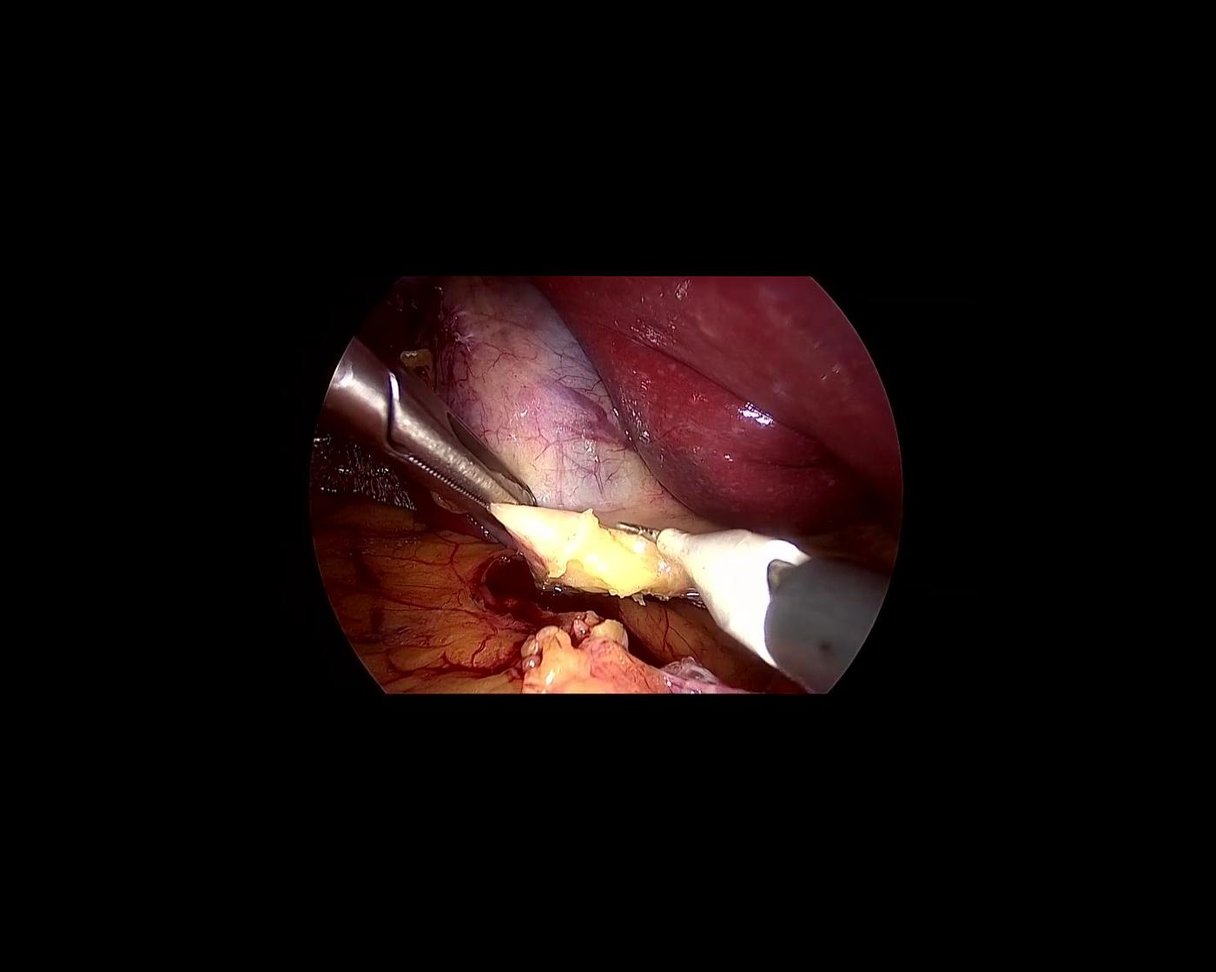Cautery: (584, 466, 890, 704)
Forceps: (292, 324, 550, 577)
Gallbladder: (341, 232, 744, 672)
Liver: (531, 278, 903, 537)
